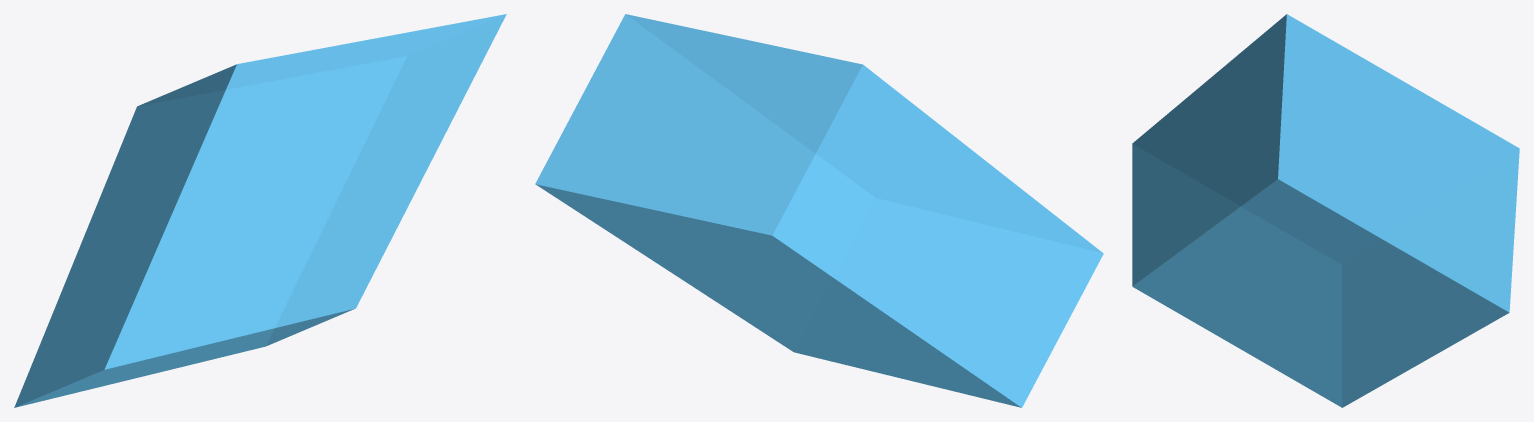
File: Event_421364160_HBrechit_31.fbx
3 views of the same model, side by side, from view 1: azimuth 30°, elevation 25°; view 2: azimuth 150°, elevation 25°; view 3: azimuth 270°, elevation 25° (orthographic). The views are drawn at different scales.
Visible parts, largest first — view 1: Model; view 2: Model; view 3: Model.
Boxes of the visible parts, box(x1,y1,x2,y2) form: Model: box(14, 14, 506, 407); Model: box(535, 14, 1103, 407); Model: box(1132, 14, 1519, 407).
Size of the model in its own units: 1.01 by 0.6477 by 0.6248.
